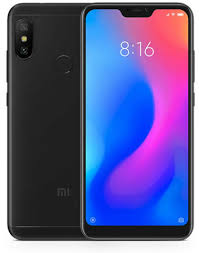mi: (80, 2, 194, 242), (6, 3, 82, 240)
